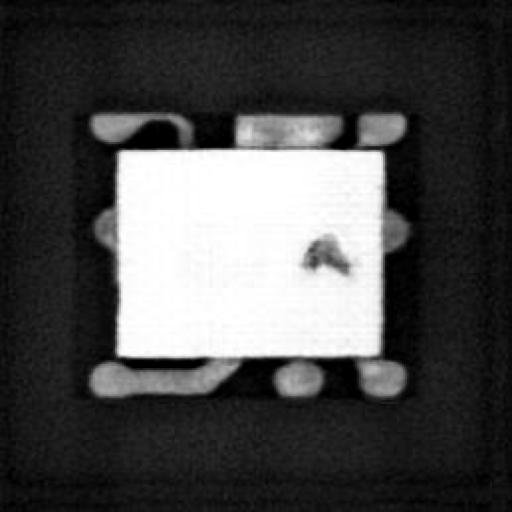DIE_INK: (298, 229, 349, 275)
